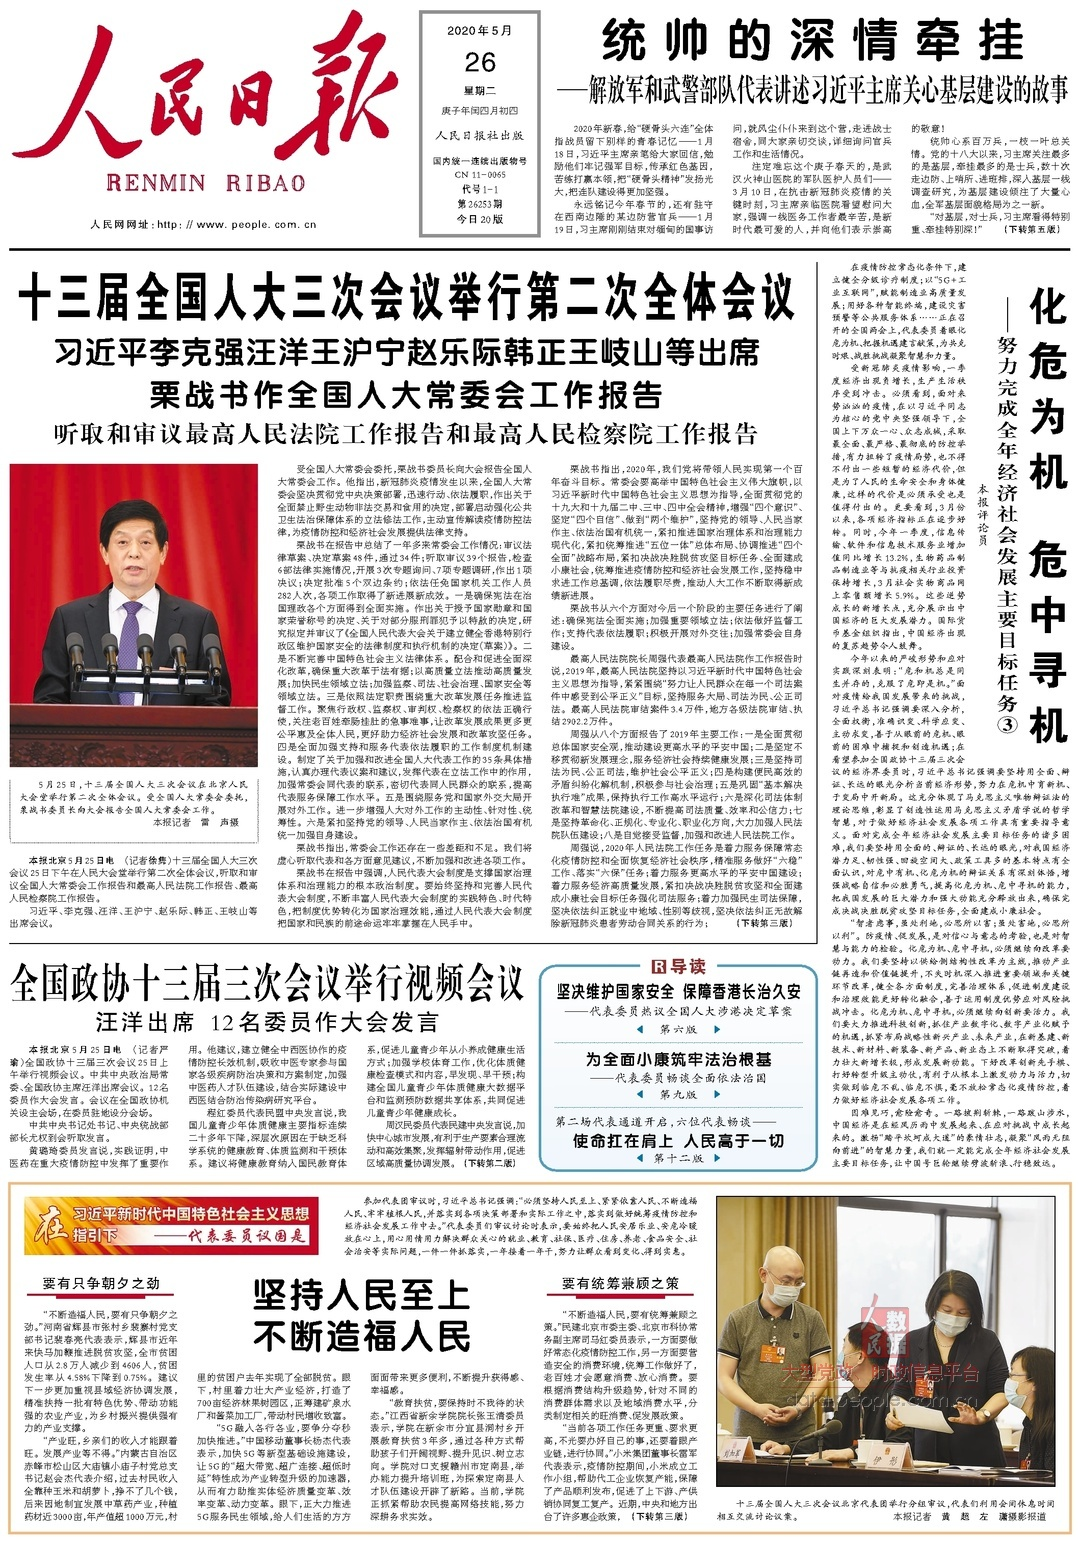pic: (711, 1191, 1064, 1493), (5, 462, 261, 773)
